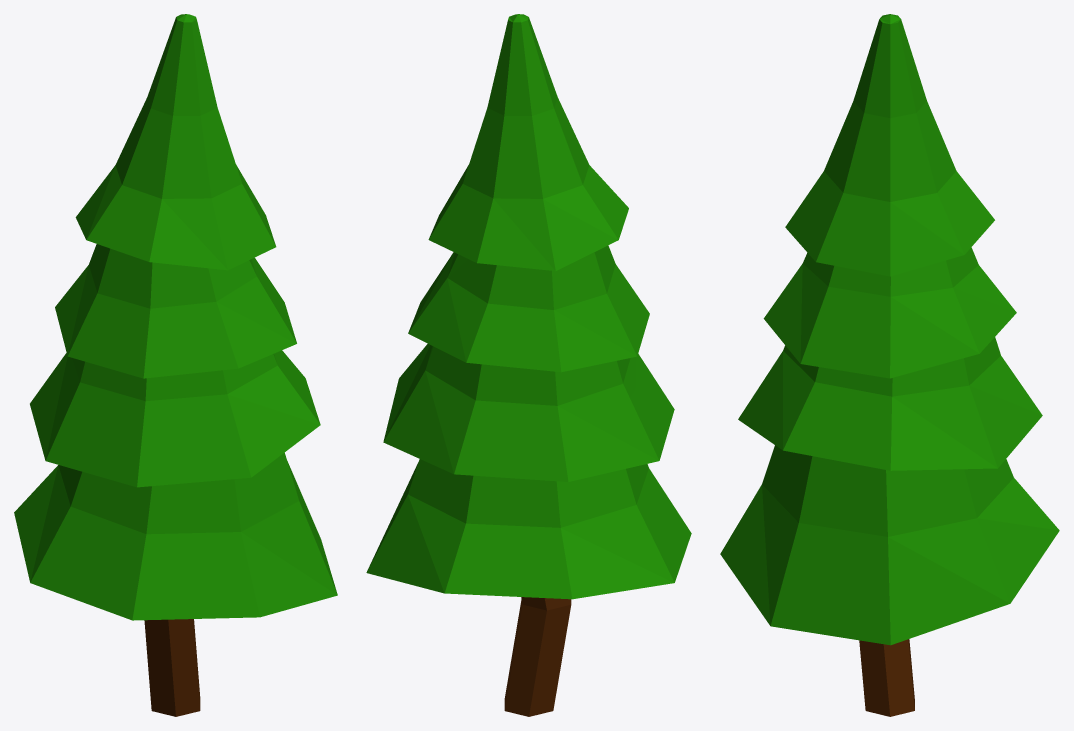
The model's file is Tree_temp_climate_018.FBX.
3 views of the same model, side by side, from view 1: azimuth 30°, elevation 25°; view 2: azimuth 150°, elevation 25°; view 3: azimuth 270°, elevation 25° (orthographic).
Parts seen in each view (by area): view 1: Tree_temp_climate_018; view 2: Tree_temp_climate_018; view 3: Tree_temp_climate_018.
Part boxes in pixels (x1=…): Tree_temp_climate_018: x1=14, y1=14, x2=337, y2=716; Tree_temp_climate_018: x1=366, y1=14, x2=691, y2=716; Tree_temp_climate_018: x1=720, y1=14, x2=1059, y2=716.
Size of the model in its own units: 242 by 548 by 242.
